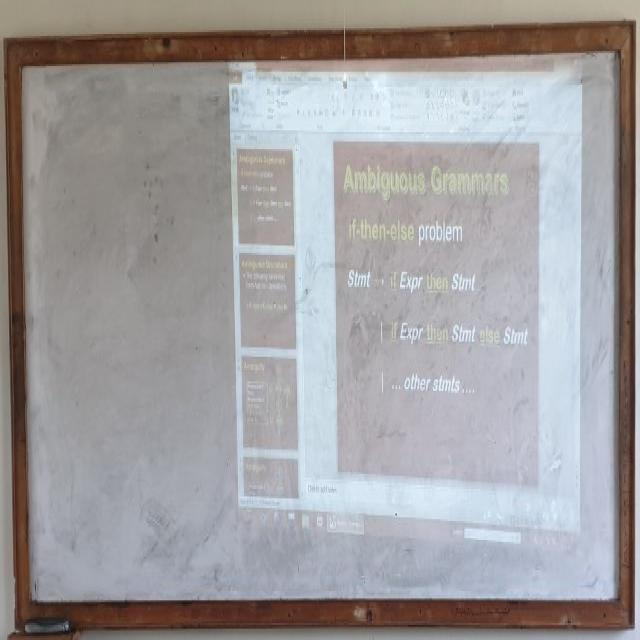Slide: (230, 52, 580, 557)
White-board: (15, 40, 627, 613)
